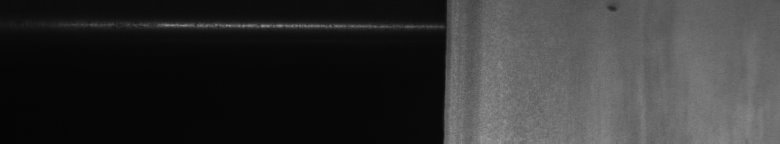fi: (605, 4, 617, 16)
